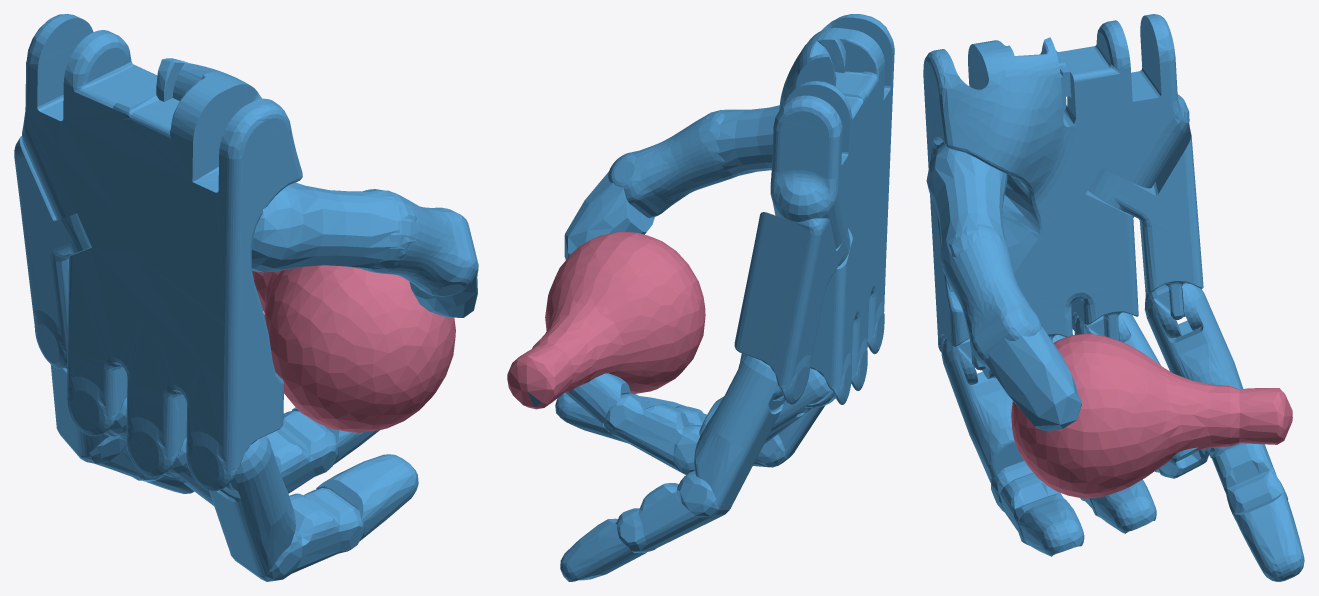
3 renders of one model, left to right at view 1: azimuth 30°, elevation 25°; view 2: azimuth 150°, elevation 25°; view 3: azimuth 270°, elevation 25°, orthographic. The views are drawn at different scales.
Parts seen in each view (by area): view 1: 2; view 2: 2; view 3: 2.
Boxes of the visible parts, box(x1,y1,x2,y2) form: 2: box(14, 14, 478, 581); 2: box(507, 14, 894, 581); 2: box(923, 14, 1304, 581).
Size of the model in its own units: 0.1185 by 0.1691 by 0.1213.
